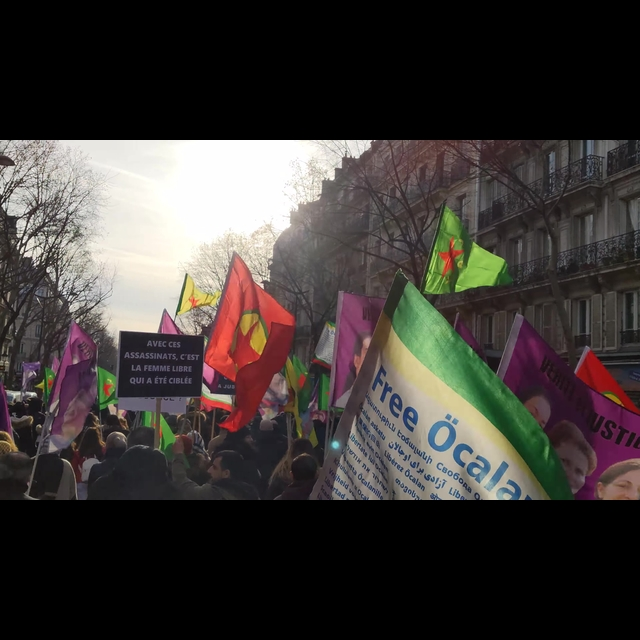PKK: (226, 295, 276, 423)
YPG: (174, 268, 221, 320)
YPJ: (425, 198, 522, 299)
